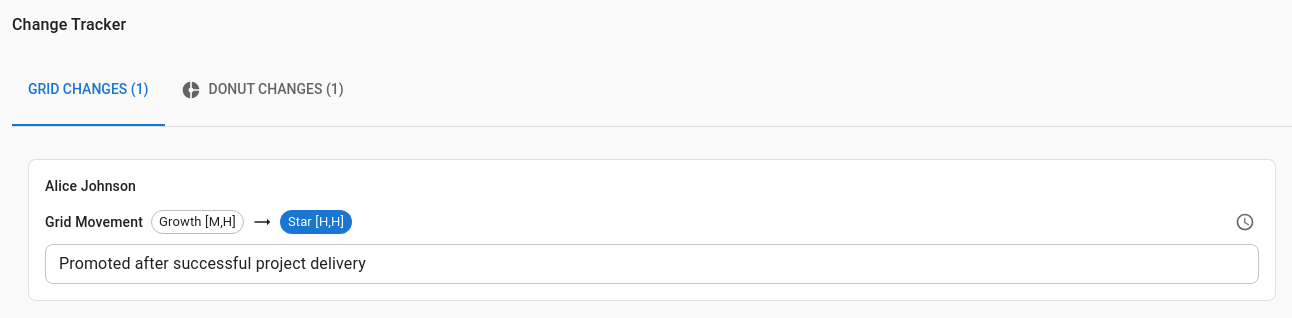
Test case: ChangeTrackerTab › switches between regular and donut changes tabs correctly
Check: the text "Alice Johnson" is shown, box x1=45 y1=178 x2=136 y2=194
Check: the text "Bob Smith" is not shown
Switch to donut changes tab
Click the tab with test id "donut-changes-tab" at {"x": 262, "y": 90}, box x1=164 y1=54 x2=360 y2=126
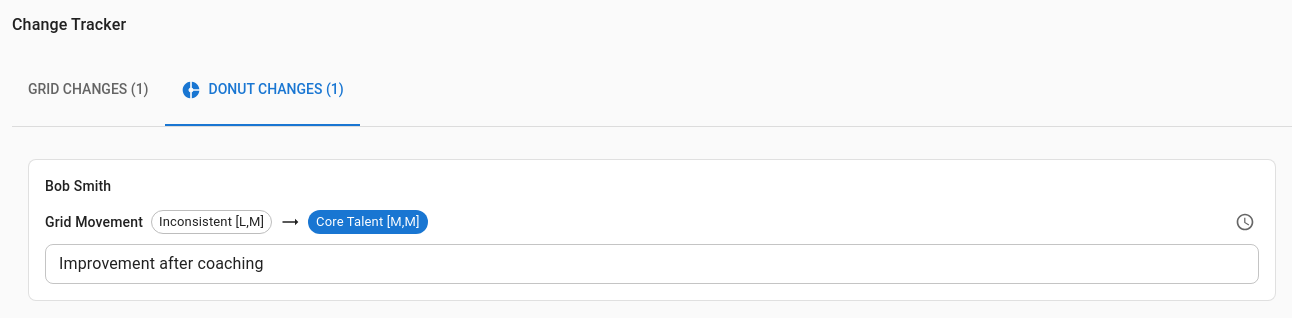
Check: the text "Alice Johnson" is gone
Check: the text "Bob Smith" is shown, box x1=45 y1=178 x2=111 y2=194
Switch back to regular changes tab
Click the tab with test id "regular-changes-tab" at {"x": 88, "y": 90}, box x1=12 y1=54 x2=164 y2=126
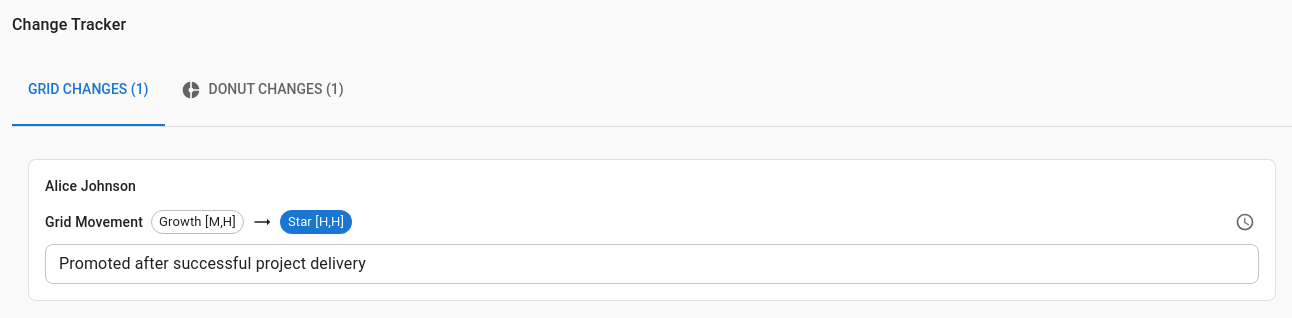
Check: the text "Alice Johnson" is shown, box x1=45 y1=178 x2=136 y2=194
Check: the text "Bob Smith" is gone
